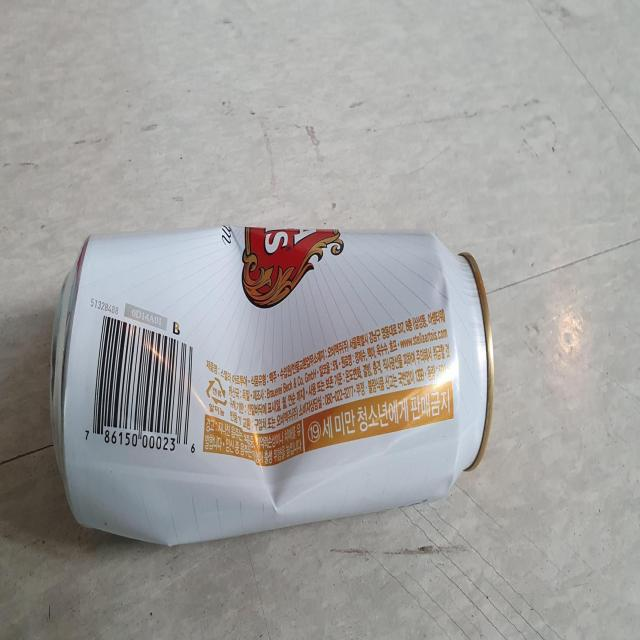can: (50, 225, 494, 545)
